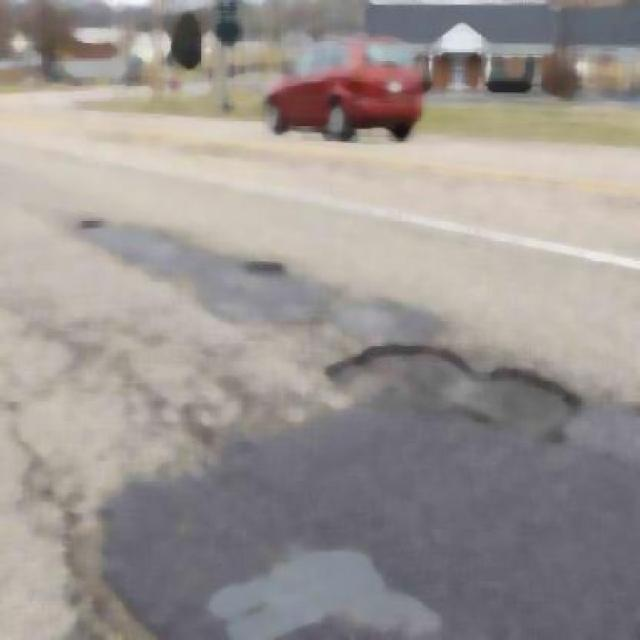Pothole: (305, 322, 590, 461)
